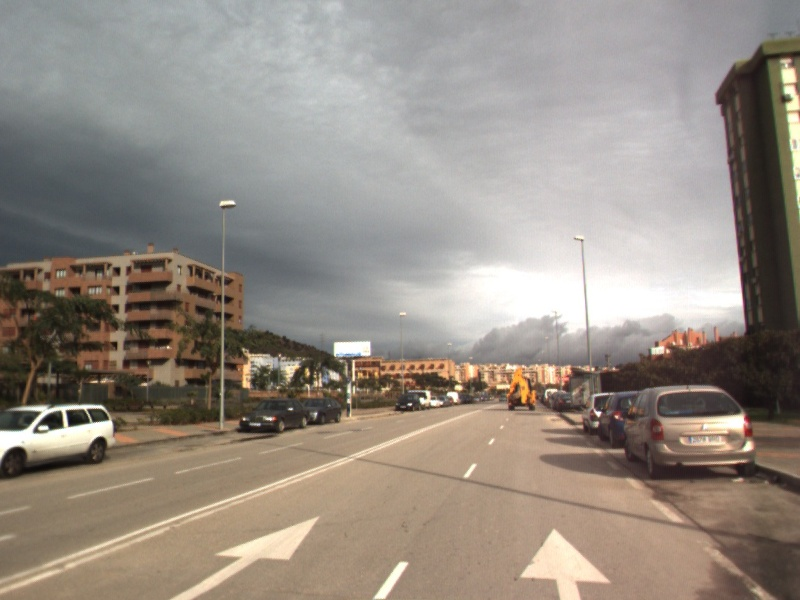STRAIGHT: (161, 514, 322, 600), (518, 526, 613, 600)
